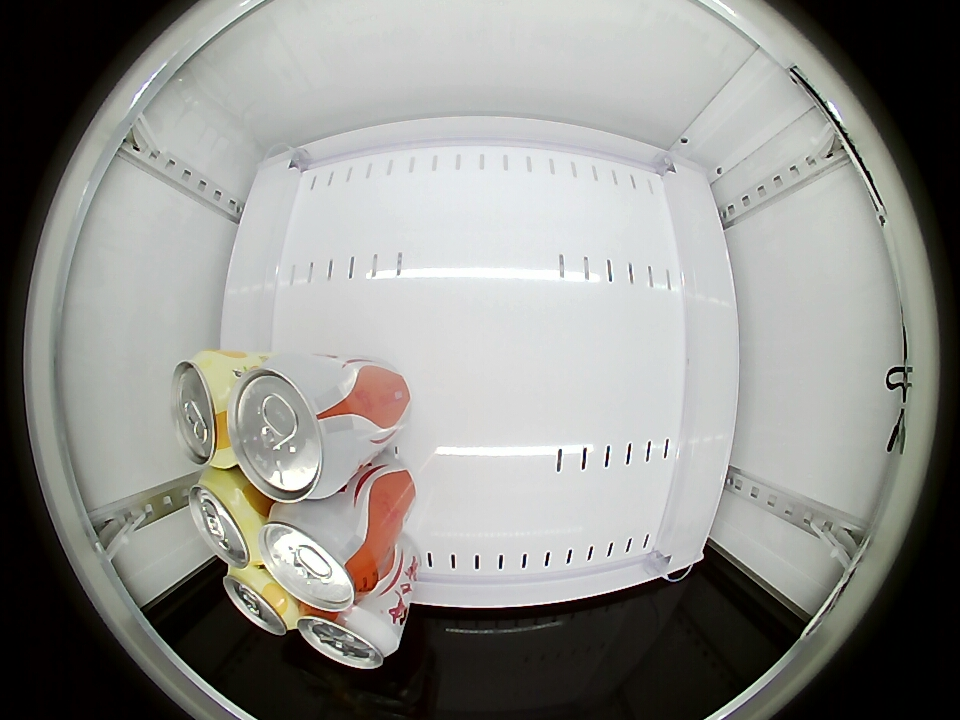jianlibao: (229, 361, 350, 503), (259, 502, 376, 612), (298, 604, 402, 668)
mangguoxiaolao: (172, 352, 237, 468), (188, 471, 263, 568), (224, 567, 298, 636)
